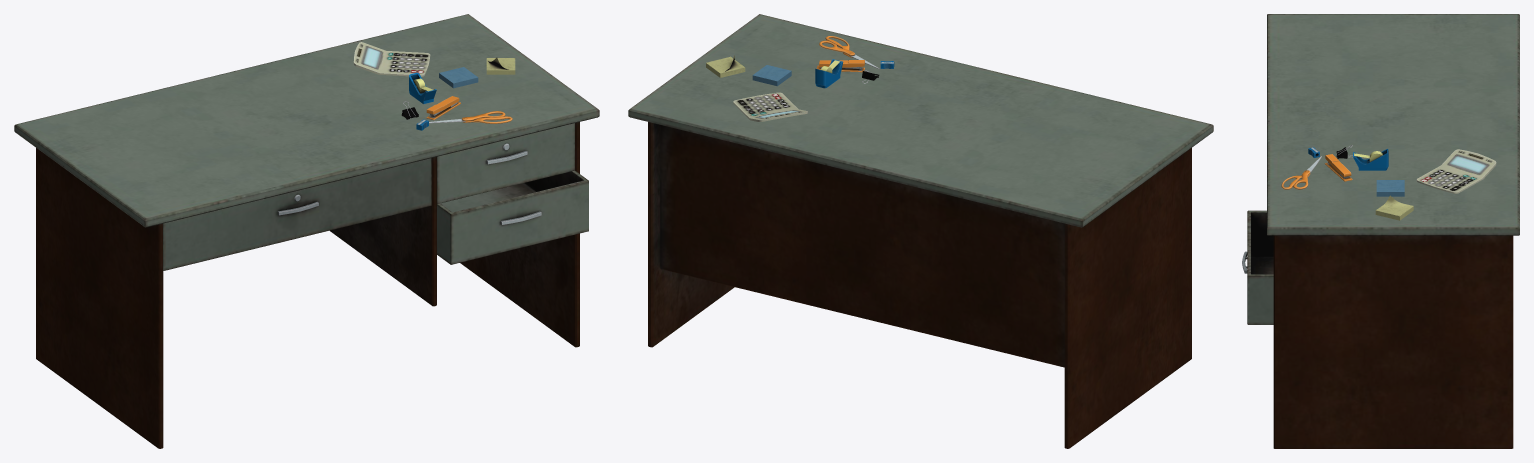
The model's file is desk.glb.
3 views of the same model, side by side, from view 1: azimuth 30°, elevation 25°; view 2: azimuth 150°, elevation 25°; view 3: azimuth 270°, elevation 25° (orthographic). The views are drawn at different scales.
Parts seen in each view (by area): view 1: StickyPaper1_OfficeDesk_0; view 2: StickyPaper1_OfficeDesk_0; view 3: StickyPaper1_OfficeDesk_0.
Boxes of the visible parts, x1=… form: StickyPaper1_OfficeDesk_0: x1=14, y1=14, x2=599, y2=448; StickyPaper1_OfficeDesk_0: x1=628, y1=14, x2=1213, y2=448; StickyPaper1_OfficeDesk_0: x1=1242, y1=14, x2=1519, y2=448.
Bounding box in the file's own units: 3.17 × 1.7 × 1.73.
1 material, 1 textured.
